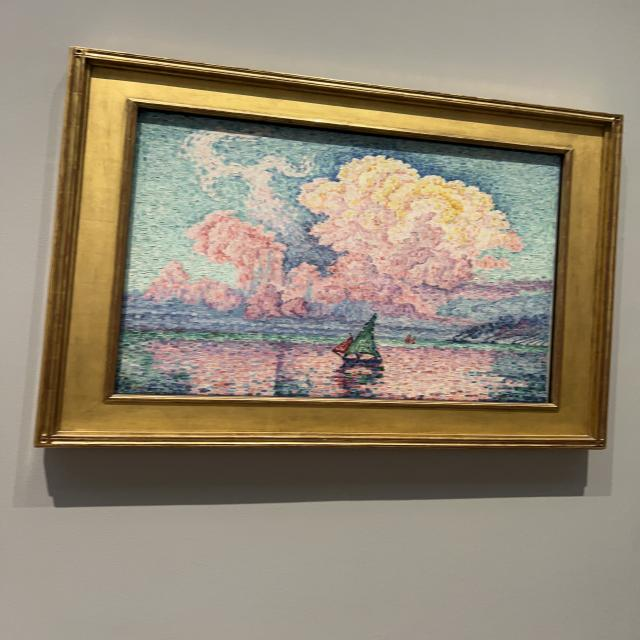sunrise: (112, 121, 559, 397)
